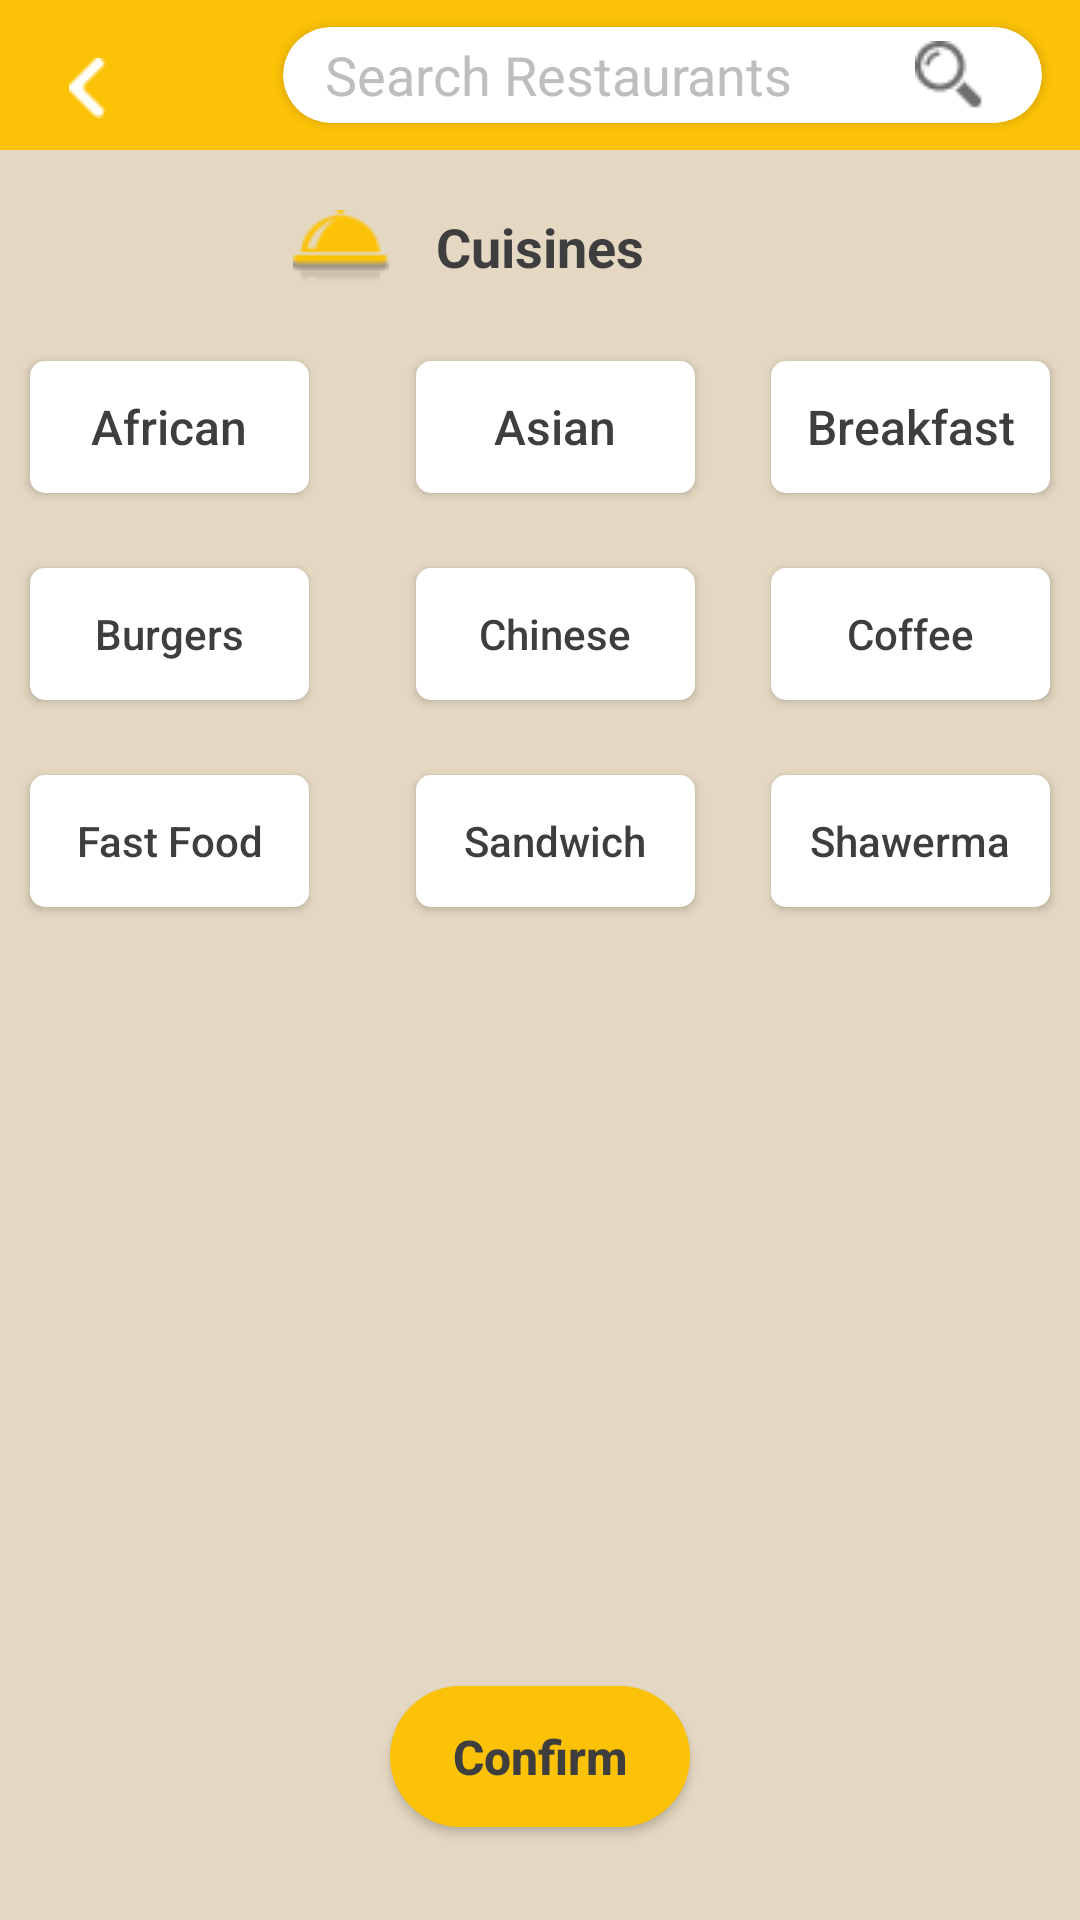

Where icons sit on this 1080px x 1920px app screen, as (x1, y1, x2, y2):
back: (69, 58, 106, 118)
cusienseimage: (293, 210, 389, 275)
maginfiglass: (915, 41, 982, 108)
